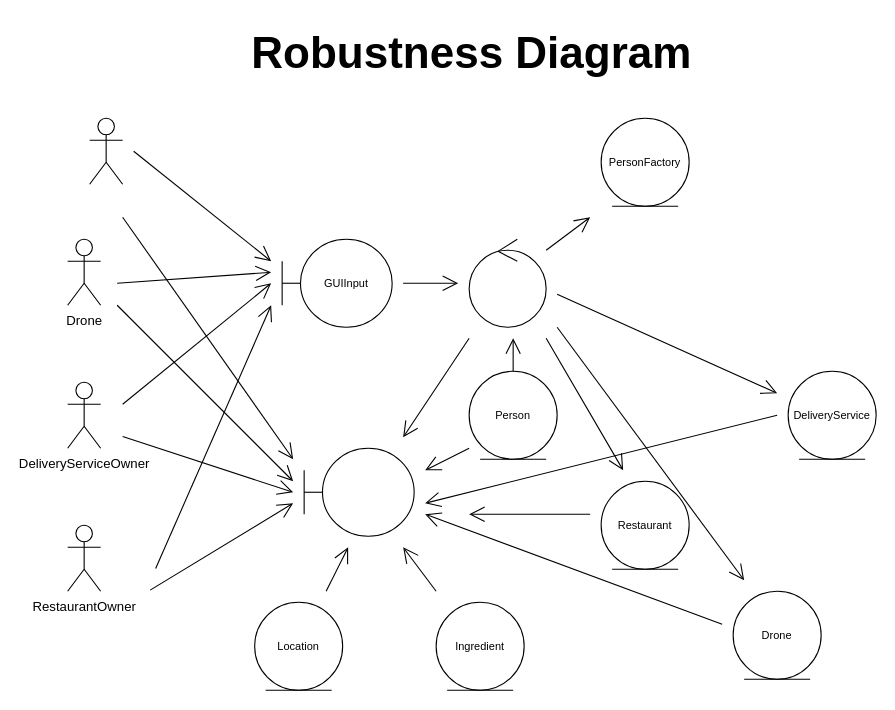
This 895x710 diagram has some shape labels left out. The box of each missing label's shape, as (x1, y1, x2, y2) in pixels:
GUIDisplay: (303, 447, 414, 536)
InterfaceLoop: (468, 238, 546, 327)
Worker: (89, 117, 123, 184)
